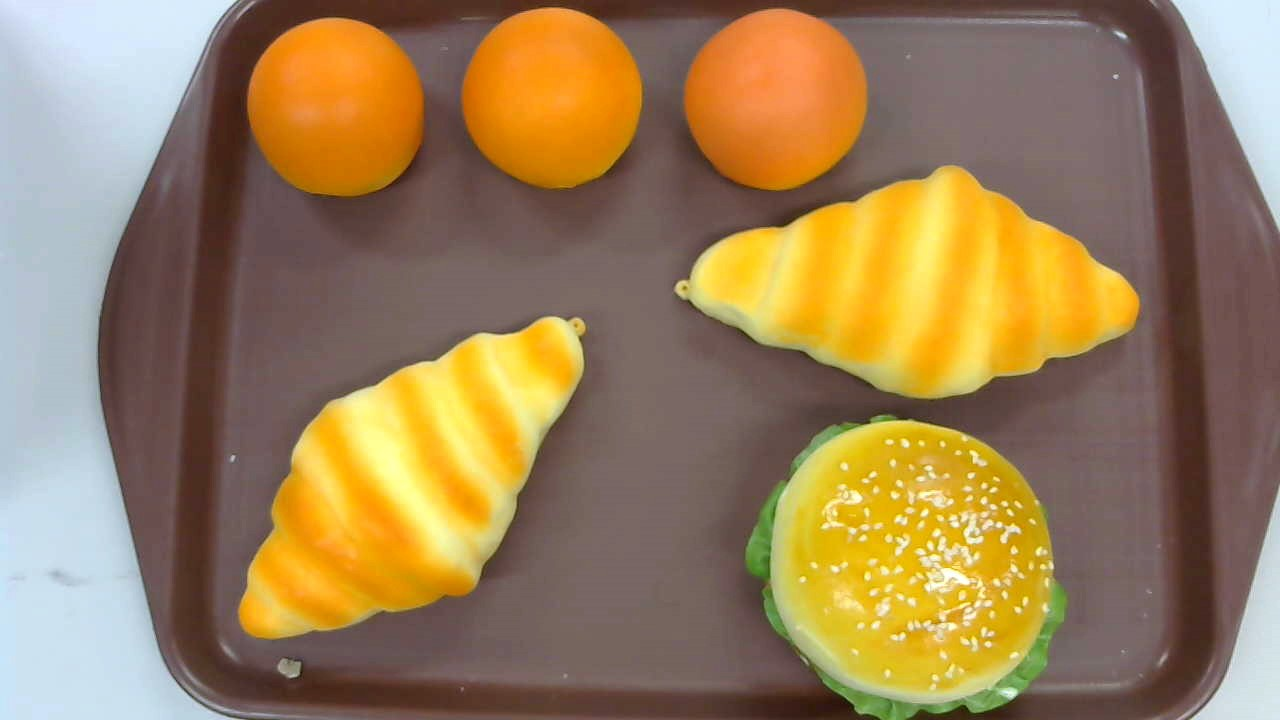bun: (684, 7, 867, 190), (461, 7, 643, 189), (247, 17, 424, 196)
croissant: (238, 314, 585, 639), (673, 164, 1140, 399)
hamburger: (744, 412, 1070, 720)
